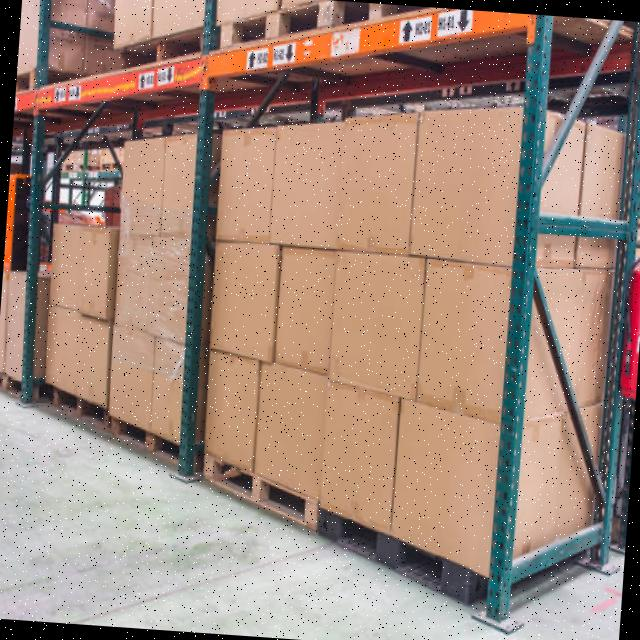Wooden-Pallets: (195, 444, 318, 555), (205, 0, 338, 54), (99, 408, 180, 485), (29, 374, 95, 442)
